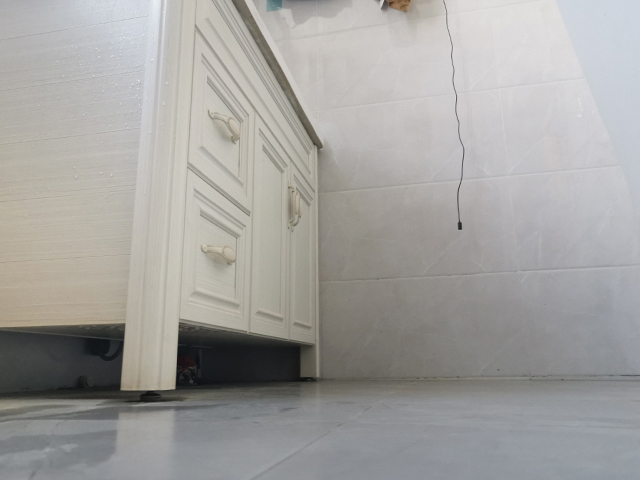cabinet: (1, 1, 324, 405)
